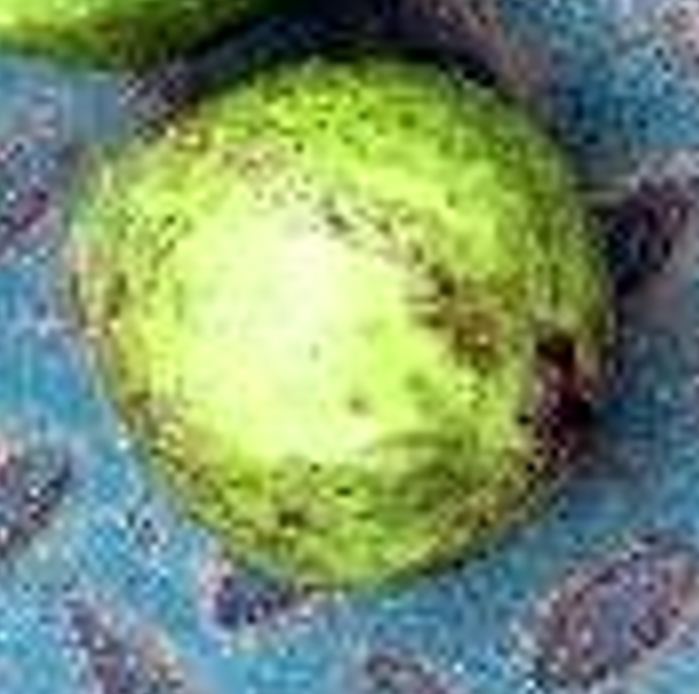guava_B: (63, 58, 620, 589)
